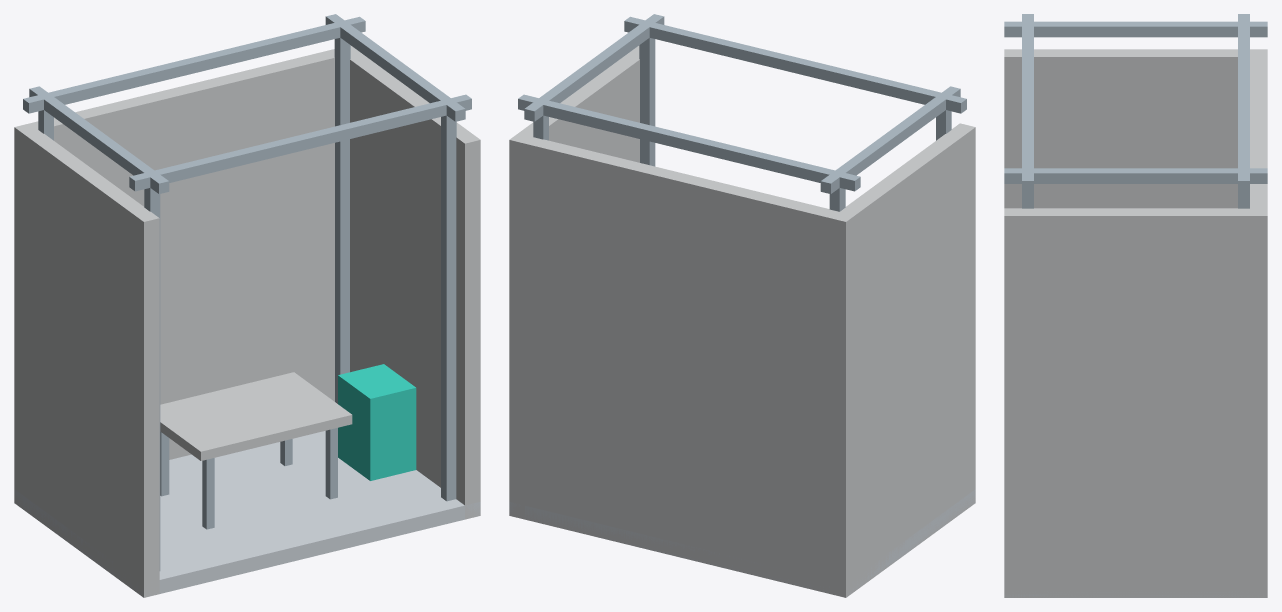
3 views of the same model, side by side, from view 1: azimuth 30°, elevation 25°; view 2: azimuth 150°, elevation 25°; view 3: azimuth 270°, elevation 25° (orthographic).
Parts seen in each view (by area): view 1: Exhibition Booth Concept; view 2: Exhibition Booth Concept; view 3: Exhibition Booth Concept.
Boxes of the visible parts, box(x1,y1,x2,y2) form: Exhibition Booth Concept: box(14, 14, 480, 597); Exhibition Booth Concept: box(509, 14, 975, 597); Exhibition Booth Concept: box(1004, 14, 1267, 597).
Bounding box in the file's own units: 3 × 3.49 × 2.
